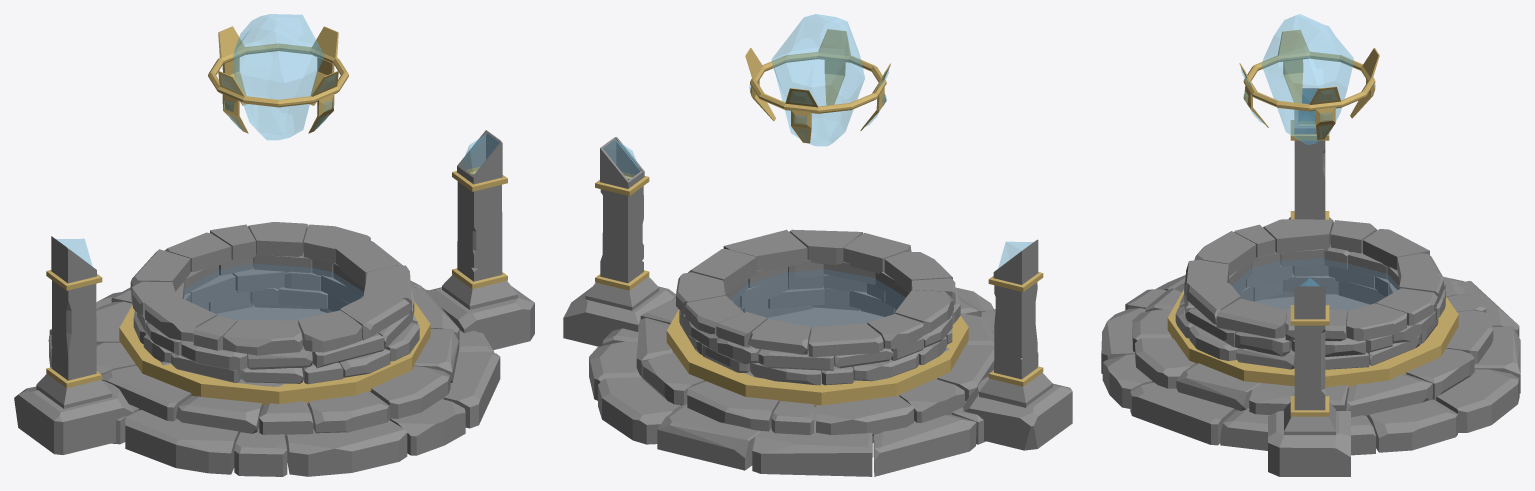
Rendered from endless_spring.glb.
3 views of the same model, side by side, from view 1: azimuth 30°, elevation 25°; view 2: azimuth 150°, elevation 25°; view 3: azimuth 270°, elevation 25° (orthographic). The views are drawn at different scales.
Parts seen in each view (by area): view 1: Well, Base, Step, Pillar 2, Pillar 1, Crystal 2, Water Placeholder, Gold Trim, Ring; view 2: Well, Base, Step, Pillar 2, Pillar 1, Crystal 2, Water Placeholder, Gold Trim, Ring; view 3: Well, Base, Step, Pillar 1, Crystal 2, Water Placeholder, Gold Trim, Ring, Pillar 2.
Part boxes in pixels (left/top/right/bottom): Well: left=130, top=222, right=419, bottom=386; Base: left=48, top=281, right=500, bottom=476; Step: left=96, top=286, right=459, bottom=437; Pillar 2: left=14, top=236, right=133, bottom=454; Pillar 1: left=427, top=130, right=534, bottom=349; Crystal 2: left=233, top=14, right=324, bottom=139; Water Placeholder: left=184, top=262, right=363, bottom=321; Gold Trim: left=119, top=301, right=430, bottom=405; Ring: left=208, top=26, right=348, bottom=133; Well: left=676, top=229, right=960, bottom=385; Base: left=589, top=287, right=1038, bottom=476; Step: left=636, top=289, right=994, bottom=436; Pillar 2: left=963, top=239, right=1072, bottom=450; Pillar 1: left=563, top=137, right=675, bottom=346; Crystal 2: left=771, top=14, right=864, bottom=146; Water Placeholder: left=730, top=269, right=905, bottom=328; Gold Trim: left=666, top=309, right=968, bottom=406; Ring: left=745, top=29, right=890, bottom=143; Well: left=1175, top=219, right=1445, bottom=369; Base: left=1101, top=275, right=1520, bottom=455; Step: left=1132, top=276, right=1493, bottom=417; Pillar 1: left=1268, top=278, right=1350, bottom=476; Crystal 2: left=1262, top=14, right=1353, bottom=144; Water Placeholder: left=1232, top=258, right=1398, bottom=312; Gold Trim: left=1167, top=289, right=1458, bottom=387; Ring: left=1239, top=29, right=1379, bottom=139; Pillar 2: left=1289, top=88, right=1333, bottom=224.
Size of the model in its own units: 2.99 by 2.2 by 2.4.
